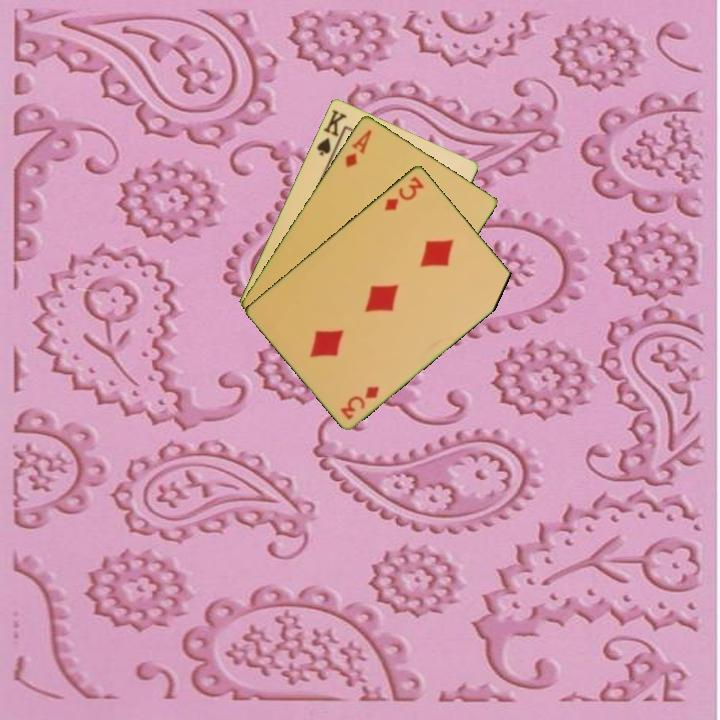3d: (381, 172, 427, 213), (337, 382, 382, 422)
Ad: (341, 126, 375, 170)
Ks: (313, 105, 350, 158)
